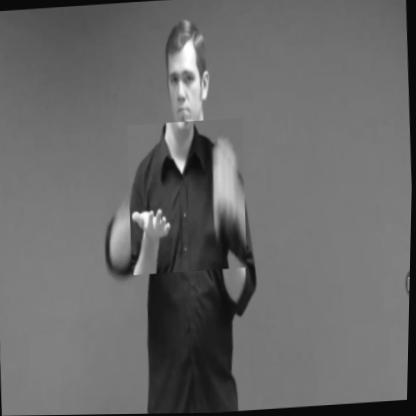Expensive: (125, 118, 250, 275)
